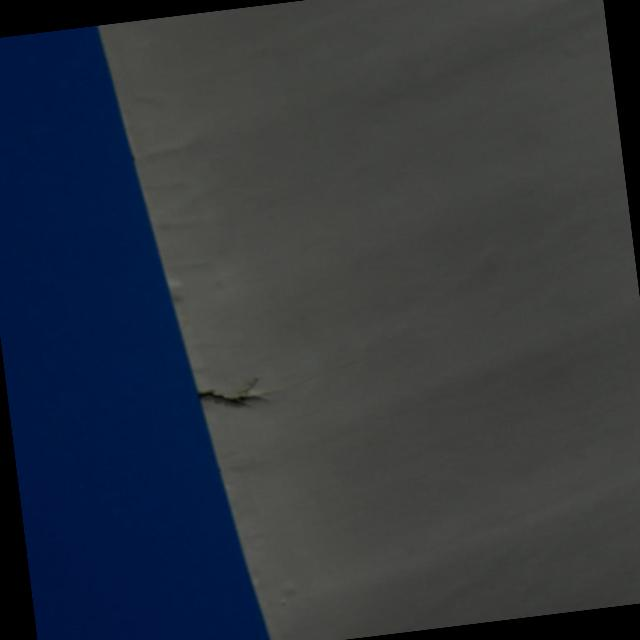crack: (199, 379, 262, 414)
